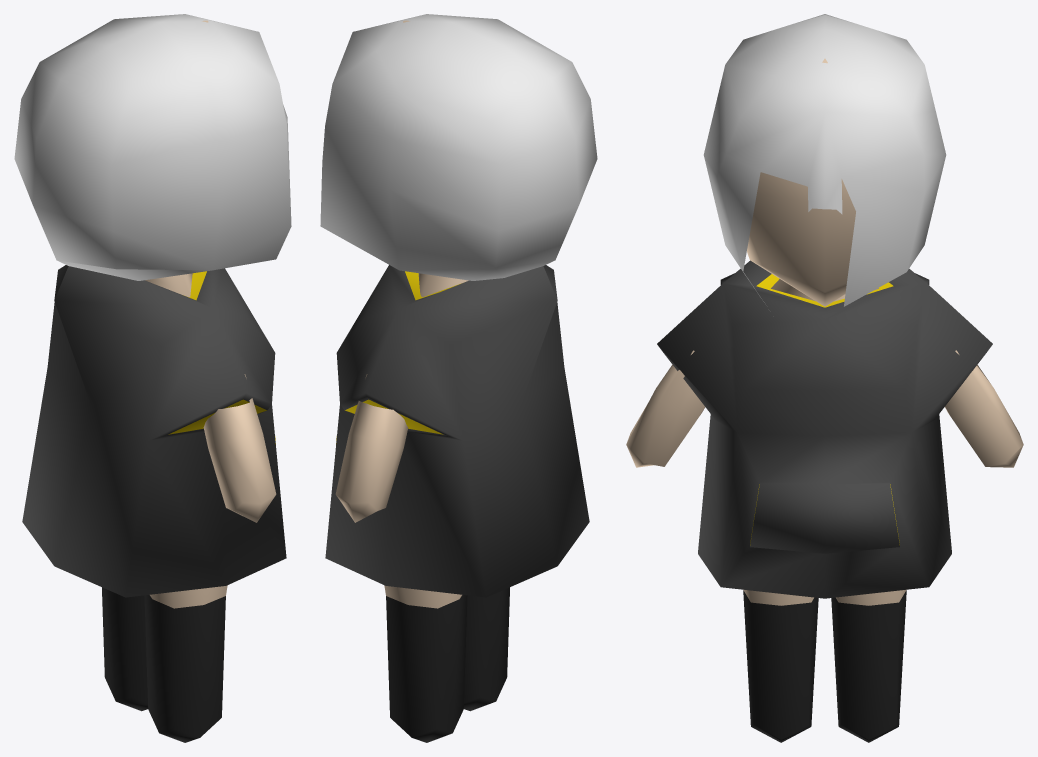
Rendered from chibigamegirl.fbx.
The picture shows the model from 3 angles, left to right: view 1: azimuth 30°, elevation 25°; view 2: azimuth 150°, elevation 25°; view 3: azimuth 270°, elevation 25°; orthographic projection.
Parts seen in each view (by area): view 1: coat, hair.001, leg.002, arm.001, leg.001, neck; view 2: coat, hair.001, leg.001, arm, leg.002, neck; view 3: coat, hair.001, HEADLOWPOLY, leg.001, leg.002, arm, arm.001.
Part boxes in pixels (box(x1,y1,x2,y2)): coat: box(22, 265, 286, 597); hair.001: box(14, 14, 291, 280); leg.002: box(144, 585, 227, 742); arm.001: box(203, 374, 276, 522); leg.001: box(102, 587, 148, 711); neck: box(145, 273, 192, 297); coat: box(325, 265, 589, 597); hair.001: box(320, 14, 597, 280); leg.001: box(384, 585, 467, 742); arm: box(335, 374, 408, 522); leg.002: box(463, 587, 509, 711); neck: box(418, 273, 468, 297); coat: box(657, 260, 992, 598); hair.001: box(703, 14, 946, 306); HEADLOWPOLY: box(747, 58, 855, 306); leg.001: box(831, 589, 906, 742); leg.002: box(743, 589, 818, 742); arm: box(945, 350, 1023, 467); arm.001: box(626, 350, 704, 467).
Bounding box in the file's own units: 135 × 377 × 191.
